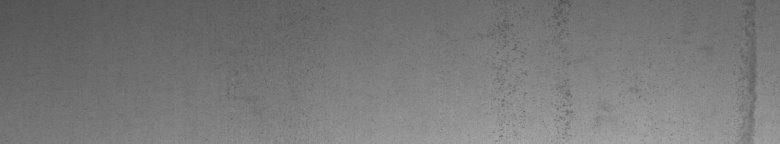ib: (498, 4, 641, 136)
